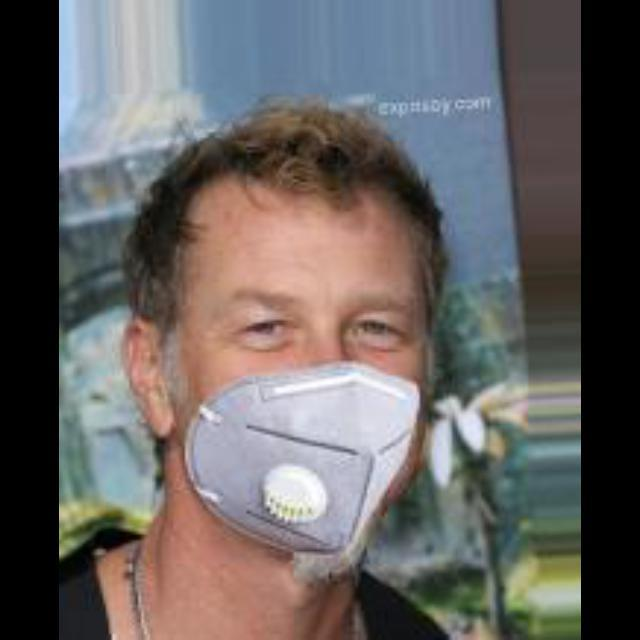suspicion: (142, 103, 454, 569)
